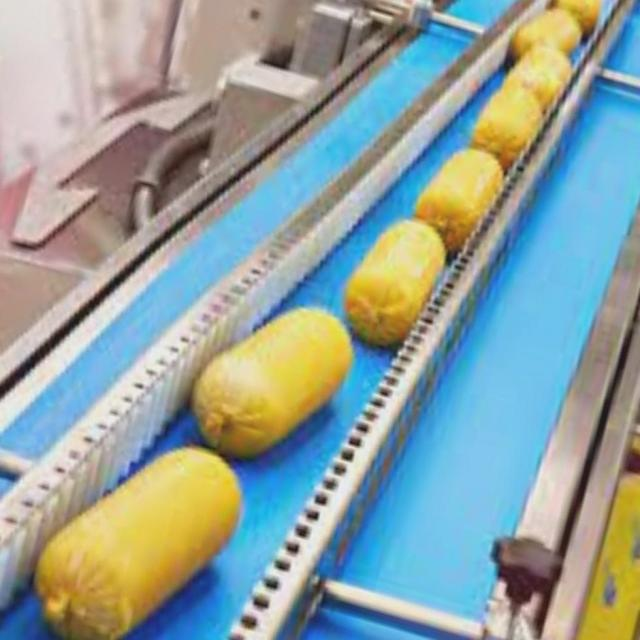food: (32, 443, 244, 640), (190, 304, 354, 460), (342, 216, 448, 349)
